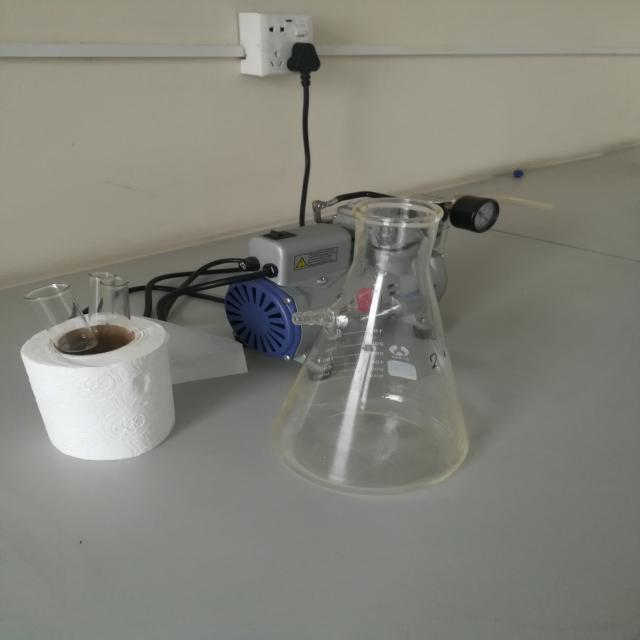Conical_Flask: (265, 157, 521, 512)
